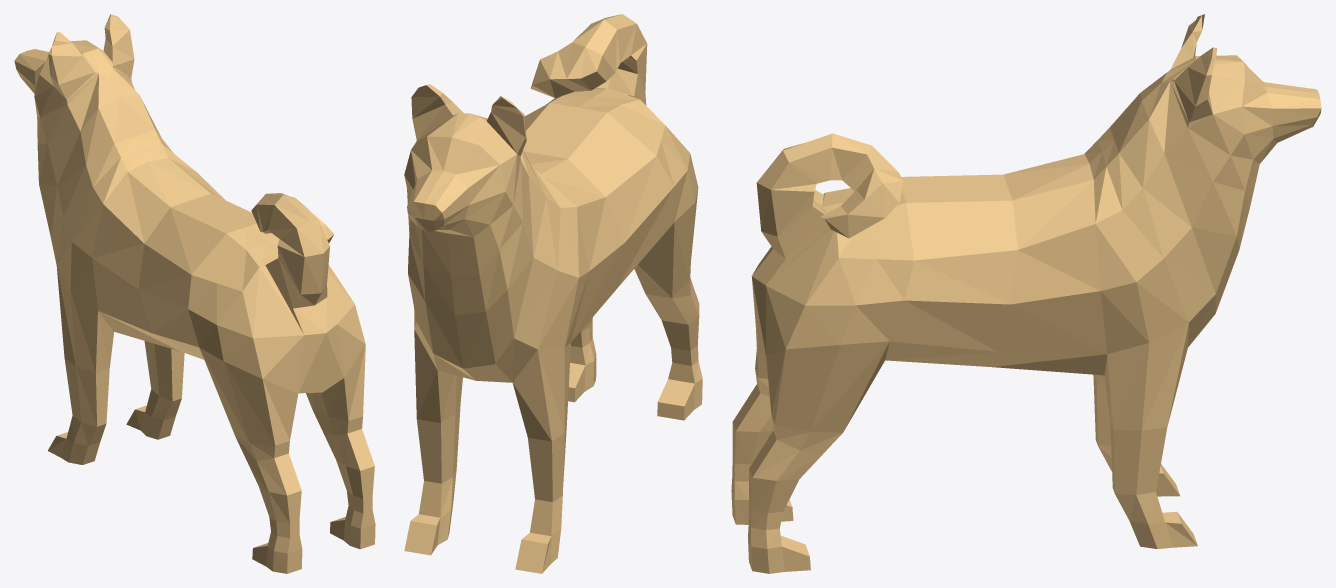
File: totem_shiba.glb
The picture shows the model from 3 angles, left to right: view 1: azimuth 30°, elevation 25°; view 2: azimuth 150°, elevation 25°; view 3: azimuth 270°, elevation 25°; orthographic projection. The views are drawn at different scales.
Parts seen in each view (by area): view 1: totem_dach_shiba; view 2: totem_dach_shiba; view 3: totem_dach_shiba.
Part boxes in pixels (x1,y1,x2,y2): totem_dach_shiba: (14, 14, 375, 573); totem_dach_shiba: (404, 14, 702, 573); totem_dach_shiba: (731, 14, 1321, 573).
Size of the model in its own units: 0.9148 by 2.14 by 2.38.
